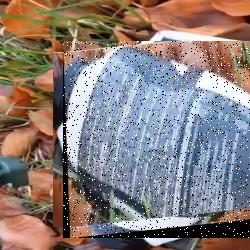plastic: (63, 41, 250, 238)
